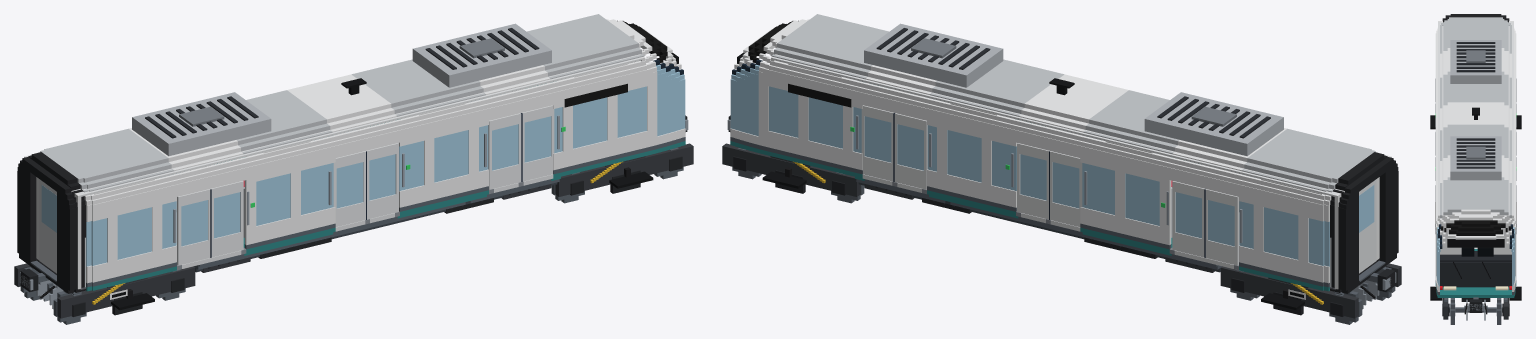
Rendered from mp14_front.obj.
3 views of the same model, side by side, from view 1: azimuth 30°, elevation 25°; view 2: azimuth 150°, elevation 25°; view 3: azimuth 270°, elevation 25° (orthographic). The views are drawn at different scales.
Parts seen in each view (by area): view 1: SHELL, SHELL_roof, SHELL_diaphragm, BOGEY_REAR, BOGEY_FRONT, SHELL_ceiling, EXTERNAL_DOOR_3_CG_DR1_TOGGLE_TL_-0.76_X, EXTERNAL_DOOR_15_CG_DR3_TOGGLE_TL_-0.76_X, EXTERNAL_DOOR_9_CG_DR2_TOGGLE_TL_-0.76_X, EXTERNAL_DOOR_4_CG_DR1_TOGGLE_TL_0.76_X, EXTERNAL_DOOR_16_CG_DR3_TOGGLE_TL_0.76_X, EXTERNAL_DOOR_10_CG_DR2_TOGGLE_TL_0.76_X (+6 smaller); view 2: SHELL, SHELL_roof, SHELL_diaphragm, BOGEY_REAR, BOGEY_FRONT, SHELL_ceiling, EXTERNAL_DOOR_6_CG_DL1_TOGGLE_TL_-0.76_X, EXTERNAL_DOOR_18_CG_DL3_TOGGLE_TL_-0.76_X, EXTERNAL_DOOR_12_CG_DL2_TOGGLE_TL_-0.76_X, EXTERNAL_DOOR_7_CG_DL1_TOGGLE_TL_0.76_X, EXTERNAL_DOOR_19_CG_DL3_TOGGLE_TL_0.76_X, EXTERNAL_DOOR_13_CG_DL2_TOGGLE_TL_0.76_X (+6 smaller); view 3: SHELL, SHELL_roof, SHELL_desk, SHELL_ceiling, SHELL_cabwall, BOGEY_FRONT, SHELL_destbox, BOGEY_FRONT_WHEEL_2, FRAME, SHELL_handle, BOGEY_REAR, HEADLIGHT_1.
Boxes of the visible parts, x1,y1,x2,y2 form: SHELL: (28,14,685,292); SHELL_roof: (132,23,551,156); SHELL_diaphragm: (17,157,75,293); BOGEY_REAR: (14,263,195,318); BOGEY_FRONT: (555,143,693,196); SHELL_ceiling: (27,55,641,196); EXTERNAL_DOOR_3_CG_DR1_TOGGLE_TL_-0.76_X: (177,189,211,265); EXTERNAL_DOOR_15_CG_DR3_TOGGLE_TL_-0.76_X: (488,113,522,189); EXTERNAL_DOOR_9_CG_DR2_TOGGLE_TL_-0.76_X: (333,151,366,226); EXTERNAL_DOOR_4_CG_DR1_TOGGLE_TL_0.76_X: (210,181,243,257); EXTERNAL_DOOR_16_CG_DR3_TOGGLE_TL_0.76_X: (522,105,554,181); EXTERNAL_DOOR_10_CG_DR2_TOGGLE_TL_0.76_X: (366,143,398,219); SHELL: (730,14,1387,292); SHELL_roof: (864,23,1283,156); SHELL_diaphragm: (1340,157,1398,293); BOGEY_REAR: (1220,263,1401,318); BOGEY_FRONT: (722,143,860,196); SHELL_ceiling: (774,55,1388,196); EXTERNAL_DOOR_6_CG_DL1_TOGGLE_TL_-0.76_X: (1204,189,1238,265); EXTERNAL_DOOR_18_CG_DL3_TOGGLE_TL_-0.76_X: (893,113,927,189); EXTERNAL_DOOR_12_CG_DL2_TOGGLE_TL_-0.76_X: (1049,151,1082,226); EXTERNAL_DOOR_7_CG_DL1_TOGGLE_TL_0.76_X: (1172,181,1204,257); EXTERNAL_DOOR_19_CG_DL3_TOGGLE_TL_0.76_X: (861,105,893,181); EXTERNAL_DOOR_13_CG_DL2_TOGGLE_TL_0.76_X: (1017,143,1049,219); SHELL: (1435,14,1516,297); SHELL_roof: (1450,40,1501,180); SHELL_desk: (1440,247,1511,287); SHELL_ceiling: (1438,21,1513,214); SHELL_cabwall: (1438,214,1513,254); BOGEY_FRONT: (1430,286,1521,319); SHELL_destbox: (1447,239,1504,247); BOGEY_FRONT_WHEEL_2: (1449,298,1502,324); FRAME: (1464,297,1487,314); SHELL_handle: (1435,78,1516,233); BOGEY_REAR: (1430,115,1521,129); HEADLIGHT_1: (1443,286,1508,290).
Bounding box in the file's own units: 16.64 × 3.84 × 2.84.
1 material, 1 textured.
